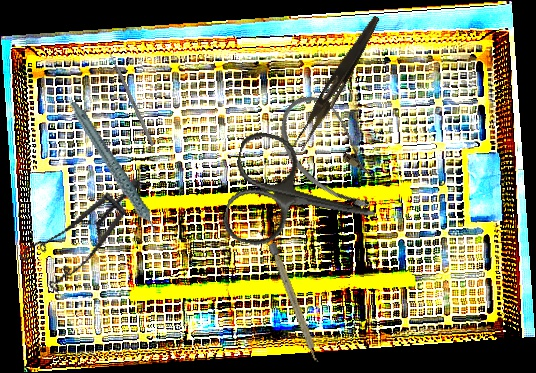Cannula: (261, 84, 402, 222)
Dressing Forceps: (291, 11, 383, 155)
Handpiece: (68, 89, 161, 255)
Iris Scissors: (219, 128, 388, 270)
Pusher: (104, 43, 155, 147)
Scalpel Handle: (268, 242, 321, 364)
Speculum: (11, 148, 142, 309)
